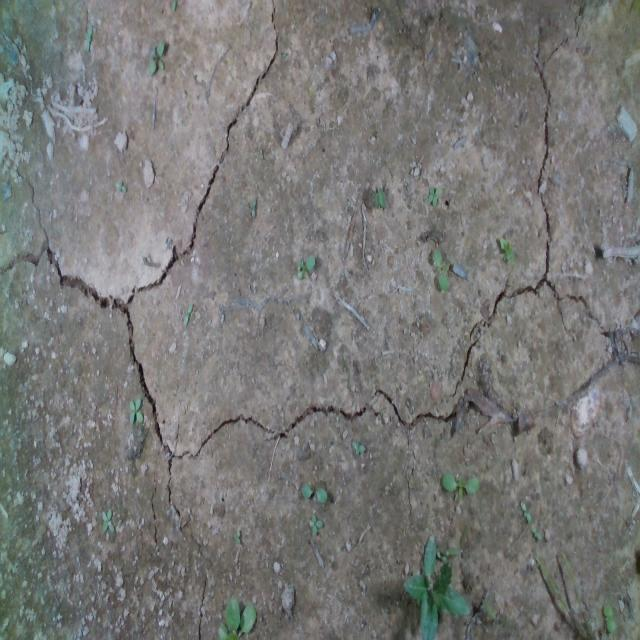weed: (428, 243, 462, 289), (300, 476, 340, 508), (362, 180, 394, 214), (439, 471, 479, 498), (124, 399, 150, 439), (496, 236, 522, 268), (97, 504, 119, 538), (149, 40, 167, 76), (423, 180, 447, 206), (302, 513, 330, 534), (292, 255, 324, 273), (516, 495, 534, 522), (110, 173, 128, 196), (349, 434, 366, 452)
